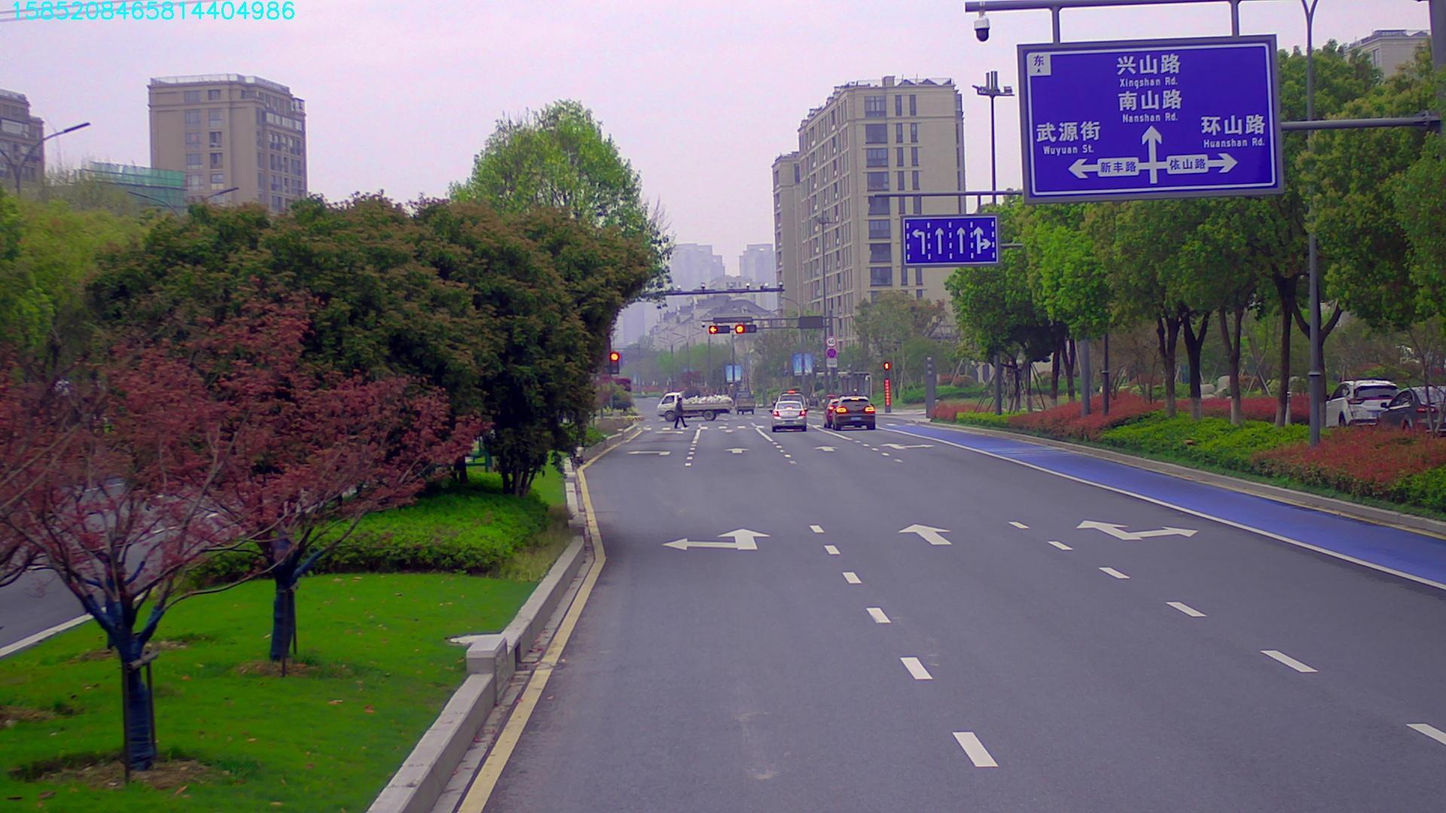red: (733, 320, 758, 333), (709, 324, 728, 335)
